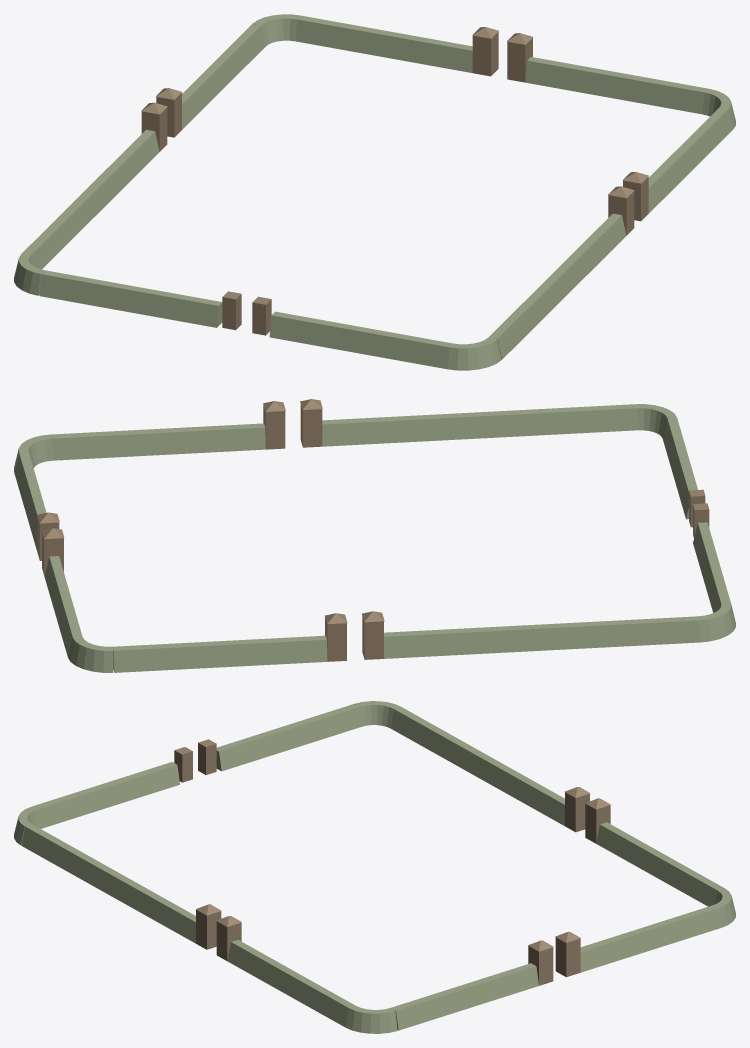
File: roman-fort-b.far.glb
3 views of the same model, one above another, from view 1: azimuth 30°, elevation 25°; view 2: azimuth 150°, elevation 25°; view 3: azimuth 270°, elevation 25° (orthographic). The views are drawn at different scales.
Parts seen in each view (by area): view 1: fort2/rampart-sw-5@far, fort2/rampart-ne-1@far, fort2/rampart-nw-3@far, fort2/rampart-sw-4@far, fort2/rampart-ne-0@far, fort2/rampart-se-6@far, fort2/rampart-se-7@far, fort2/rampart-nw-2@far, fort2/gate-ne/tower-left@far, fort2/gate-ne/tower-right@far, fort2/gate-nw/tower-left@far, fort2/gate-se/tower-right@far (+4 smaller); view 2: fort2/rampart-nw-3@far, fort2/rampart-se-6@far, fort2/rampart-se-7@far, fort2/rampart-nw-2@far, fort2/rampart-ne-1@far, fort2/rampart-sw-5@far, fort2/rampart-sw-4@far, fort2/rampart-ne-0@far, fort2/gate-se/tower-right@far, fort2/gate-nw/tower-left@far, fort2/gate-se/tower-left@far, fort2/gate-nw/tower-right@far (+2 smaller); view 3: fort2/rampart-nw-3@far, fort2/rampart-se-6@far, fort2/rampart-se-7@far, fort2/rampart-ne-1@far, fort2/rampart-sw-5@far, fort2/rampart-sw-4@far, fort2/rampart-ne-0@far, fort2/rampart-nw-2@far, fort2/gate-ne/tower-left@far, fort2/gate-se/tower-right@far, fort2/gate-nw/tower-left@far, fort2/gate-ne/tower-right@far (+4 smaller).
Part boxes in pixels (x1=…): fort2/rampart-sw-5@far: x1=269, y1=311, x2=501, y2=370; fort2/rampart-ne-1@far: x1=253, y1=14, x2=472, y2=72; fort2/rampart-nw-3@far: x1=14, y1=129, x2=159, y2=295; fort2/rampart-sw-4@far: x1=39, y1=270, x2=222, y2=327; fort2/rampart-ne-0@far: x1=525, y1=57, x2=708, y2=114; fort2/rampart-se-6@far: x1=489, y1=213, x2=626, y2=359; fort2/rampart-se-7@far: x1=648, y1=89, x2=735, y2=213; fort2/rampart-nw-2@far: x1=182, y1=24, x2=265, y2=129; fort2/gate-ne/tower-left@far: x1=472, y1=27, x2=498, y2=76; fort2/gate-ne/tower-right@far: x1=507, y1=33, x2=533, y2=82; fort2/gate-nw/tower-left@far: x1=141, y1=102, x2=167, y2=151; fort2/gate-se/tower-right@far: x1=608, y1=186, x2=634, y2=235; fort2/rampart-nw-3@far: x1=384, y1=603, x2=735, y2=658; fort2/rampart-se-6@far: x1=322, y1=404, x2=637, y2=446; fort2/rampart-se-7@far: x1=14, y1=423, x2=265, y2=471; fort2/rampart-nw-2@far: x1=113, y1=635, x2=327, y2=672; fort2/rampart-ne-1@far: x1=44, y1=556, x2=113, y2=672; fort2/rampart-sw-5@far: x1=636, y1=404, x2=697, y2=519; fort2/rampart-sw-4@far: x1=693, y1=522, x2=730, y2=612; fort2/rampart-ne-0@far: x1=14, y1=451, x2=46, y2=552; fort2/gate-se/tower-right@far: x1=300, y1=399, x2=322, y2=447; fort2/gate-nw/tower-left@far: x1=362, y1=611, x2=384, y2=659; fort2/gate-se/tower-left@far: x1=263, y1=401, x2=285, y2=449; fort2/gate-nw/tower-right@far: x1=325, y1=613, x2=347, y2=661; fort2/rampart-nw-3@far: x1=354, y1=701, x2=564, y2=825; fort2/rampart-se-6@far: x1=21, y1=824, x2=195, y2=943; fort2/rampart-se-7@far: x1=227, y1=940, x2=397, y2=1033; fort2/rampart-ne-1@far: x1=580, y1=888, x2=735, y2=972; fort2/rampart-sw-5@far: x1=14, y1=762, x2=179, y2=845; fort2/rampart-sw-4@far: x1=216, y1=704, x2=361, y2=771; fort2/rampart-ne-0@far: x1=391, y1=963, x2=538, y2=1030; fort2/rampart-nw-2@far: x1=596, y1=822, x2=724, y2=906; fort2/gate-ne/tower-left@far: x1=555, y1=931, x2=580, y2=977; fort2/gate-se/tower-right@far: x1=196, y1=904, x2=221, y2=949; fort2/gate-nw/tower-left@far: x1=564, y1=787, x2=590, y2=832; fort2/gate-ne/tower-right@far: x1=528, y1=940, x2=553, y2=985.
Size of the model in its own units: 167 by 9.9 by 161.
